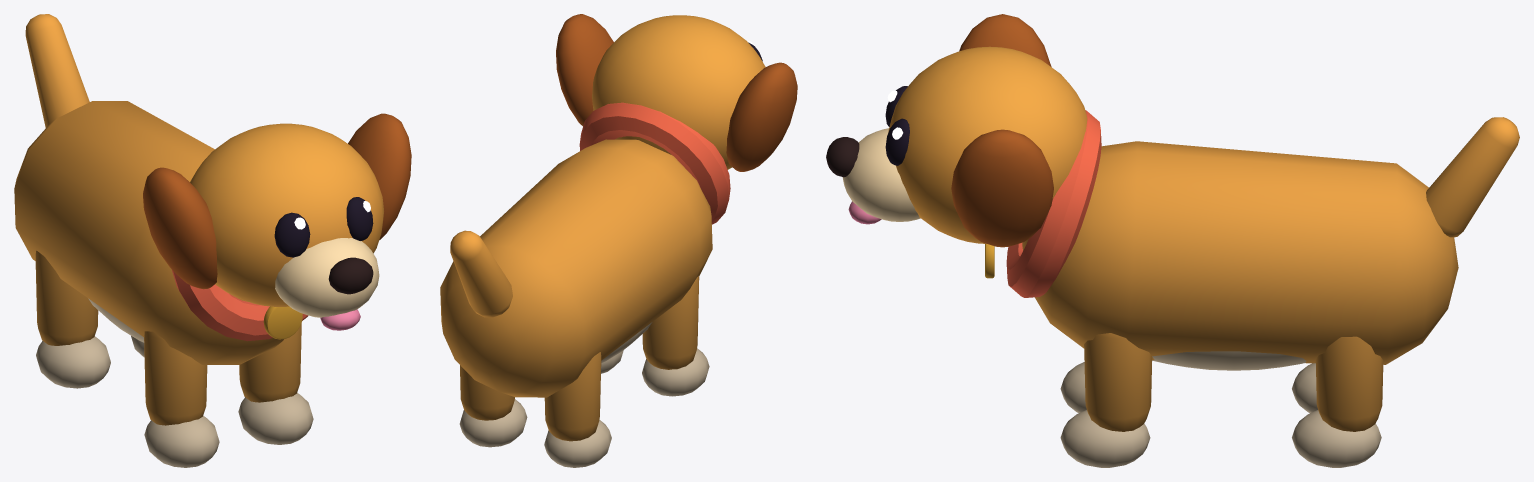
File: dog.glb
3 renders of one model, left to right at view 1: azimuth 30°, elevation 25°; view 2: azimuth 150°, elevation 25°; view 3: azimuth 270°, elevation 25°, orthographic. The views are drawn at different scales.
Parts seen in each view (by area): view 1: Body, Head, LegFR, LegBR, EarR, LegFL, Tail, EarL; view 2: Body, Head, EarR, LegBR, LegFR, EarL, LegBL, Tail; view 3: Body, Head, EarL, LegFL, LegBL, Tail, EarR, LegFR, LegBR.
Boxes of the visible parts, box(x1,y1,x2,y2) form: Body: box(14, 101, 308, 364); Head: box(190, 123, 383, 330); LegFR: box(144, 331, 219, 467); LegBR: box(35, 250, 110, 388); EarR: box(143, 167, 217, 289); LegFL: box(238, 323, 313, 444); Tail: box(25, 14, 89, 127); EarL: box(348, 113, 411, 239); Body: box(440, 102, 730, 397); Head: box(592, 15, 765, 169); EarR: box(726, 62, 797, 171); LegBR: box(544, 352, 611, 467); LegFR: box(642, 276, 709, 396); EarL: box(556, 14, 613, 126); LegBL: box(459, 365, 527, 447); Tail: box(450, 230, 512, 317); Body: box(985, 110, 1458, 370); Head: box(826, 46, 1087, 243); EarL: box(951, 129, 1053, 247); LegFL: box(1060, 333, 1152, 467); LegBL: box(1292, 336, 1383, 467); Tail: box(1426, 117, 1519, 237); EarR: box(959, 14, 1051, 66); LegFR: box(1060, 362, 1086, 412); LegBR: box(1292, 363, 1317, 412).
Bounding box in the file's own units: 0.4843 × 0.655 × 1.08.
